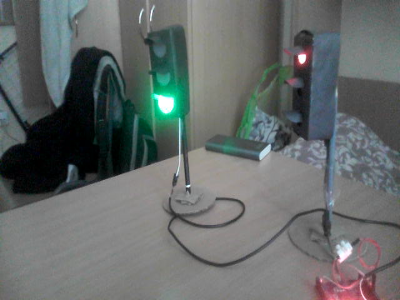trafficlight_green: (144, 32, 182, 116)
trafficlight_red: (283, 33, 312, 134)
